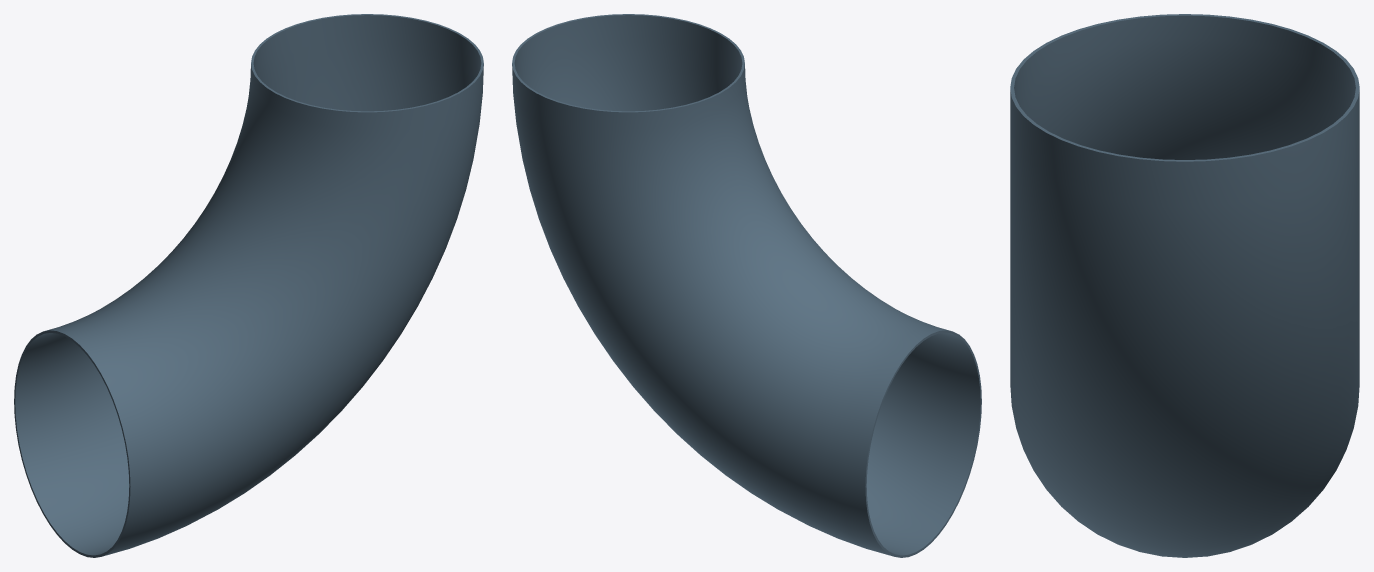
File: otvod-90-820x9-R1200.glb
3 views of the same model, side by side, from view 1: azimuth 30°, elevation 25°; view 2: azimuth 150°, elevation 25°; view 3: azimuth 270°, elevation 25° (orthographic). The views are drawn at different scales.
Visible parts, largest first — view 1: Open CASCADE STEP translator 7.9 110; view 2: Open CASCADE STEP translator 7.9 110; view 3: Open CASCADE STEP translator 7.9 110.
Boxes of the visible parts, <box> form: Open CASCADE STEP translator 7.9 110: <box>14,14,483,557</box>; Open CASCADE STEP translator 7.9 110: <box>512,14,981,557</box>; Open CASCADE STEP translator 7.9 110: <box>1010,14,1359,557</box>.
Bounding box in the file's own units: 1610 × 1610 × 820.
